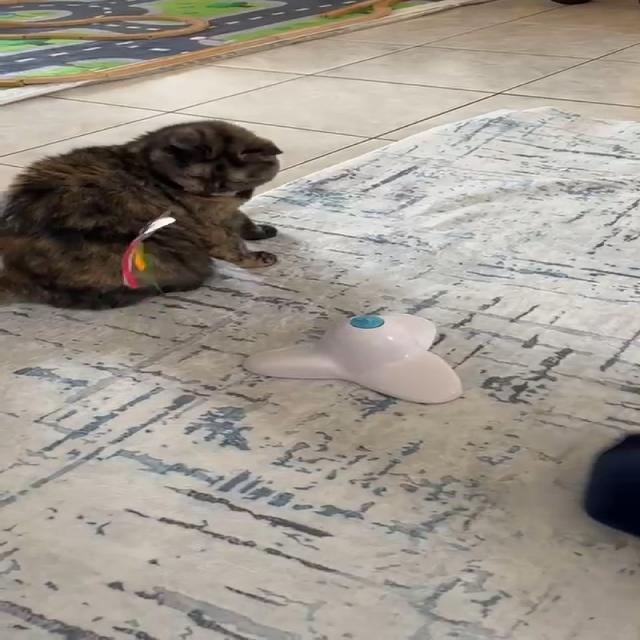authorized: (0, 119, 283, 310)
